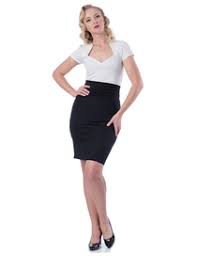F_tailored skirt: (67, 79, 126, 170)
